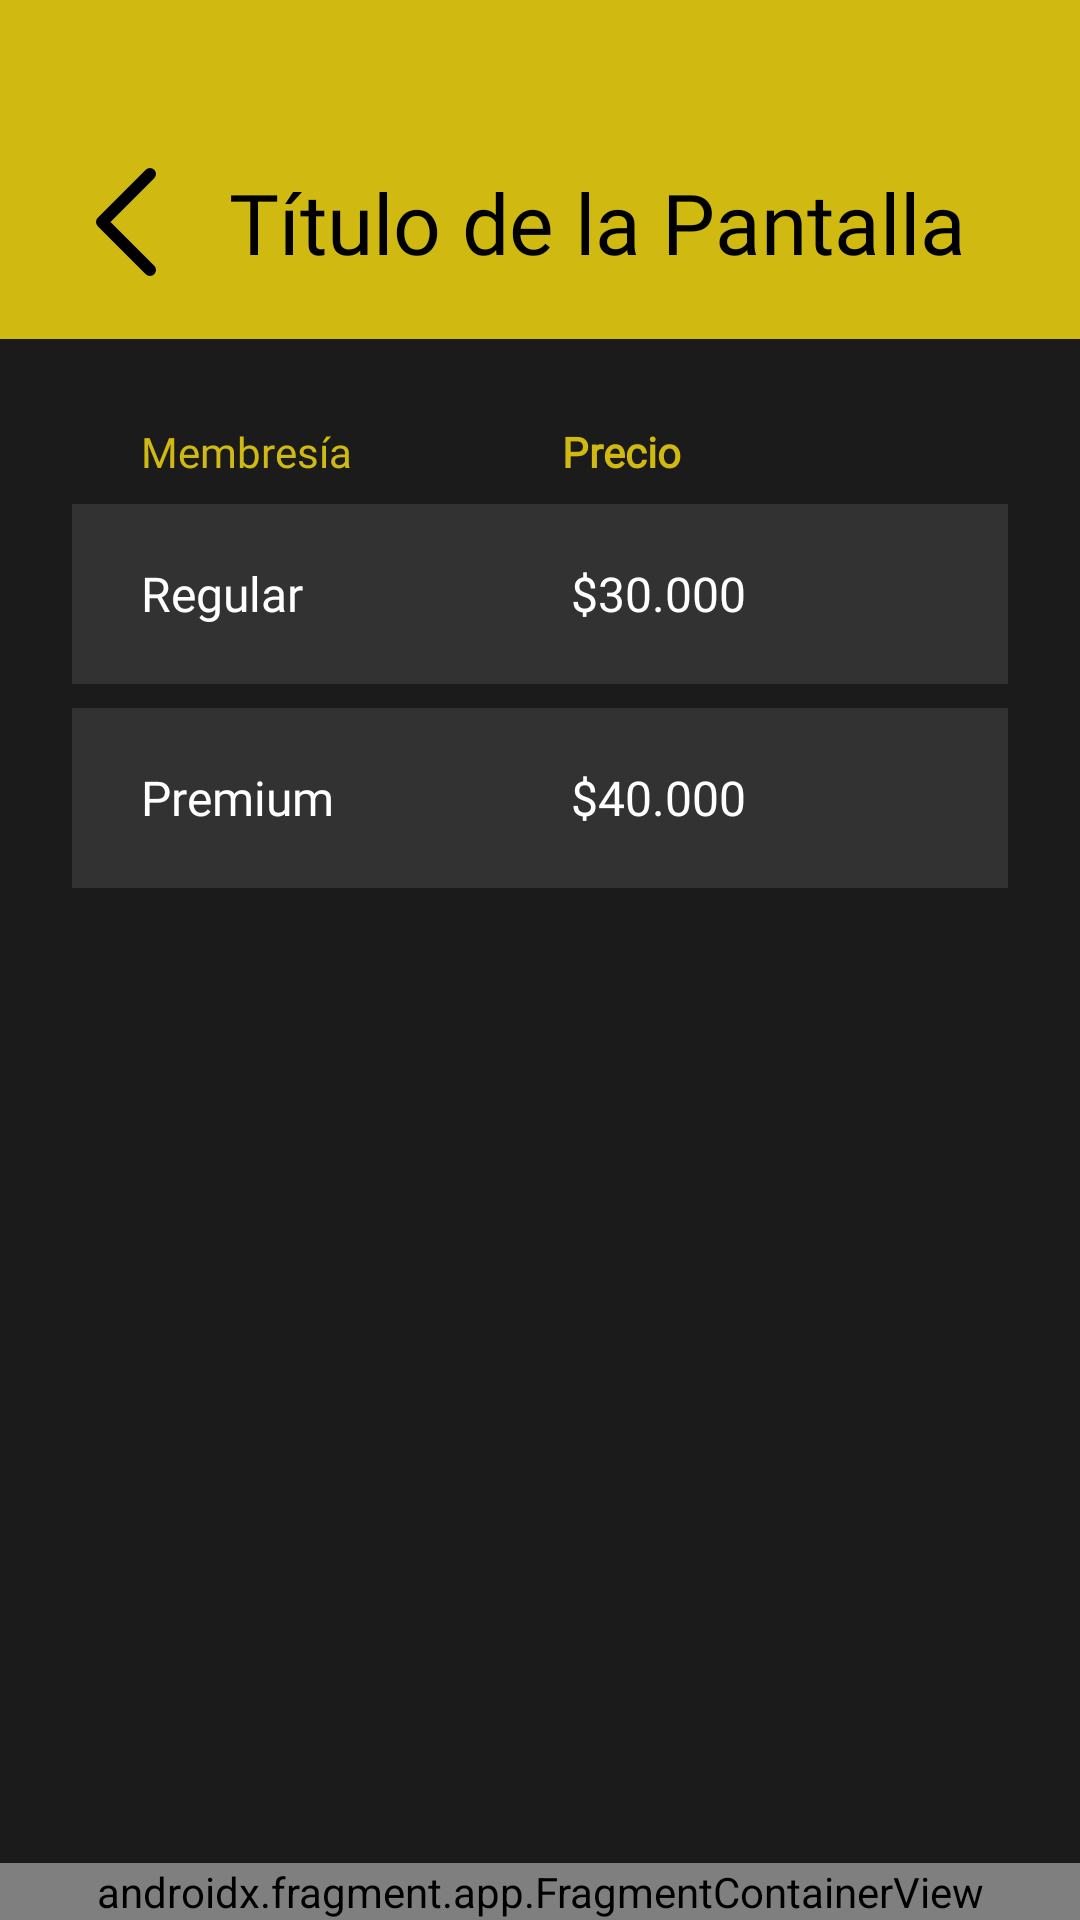

Screen size 1080px×1920px. Icon name, then its box in pixels as rect(x1, y1, x2, y2):
atras: rect(96, 168, 156, 276)
